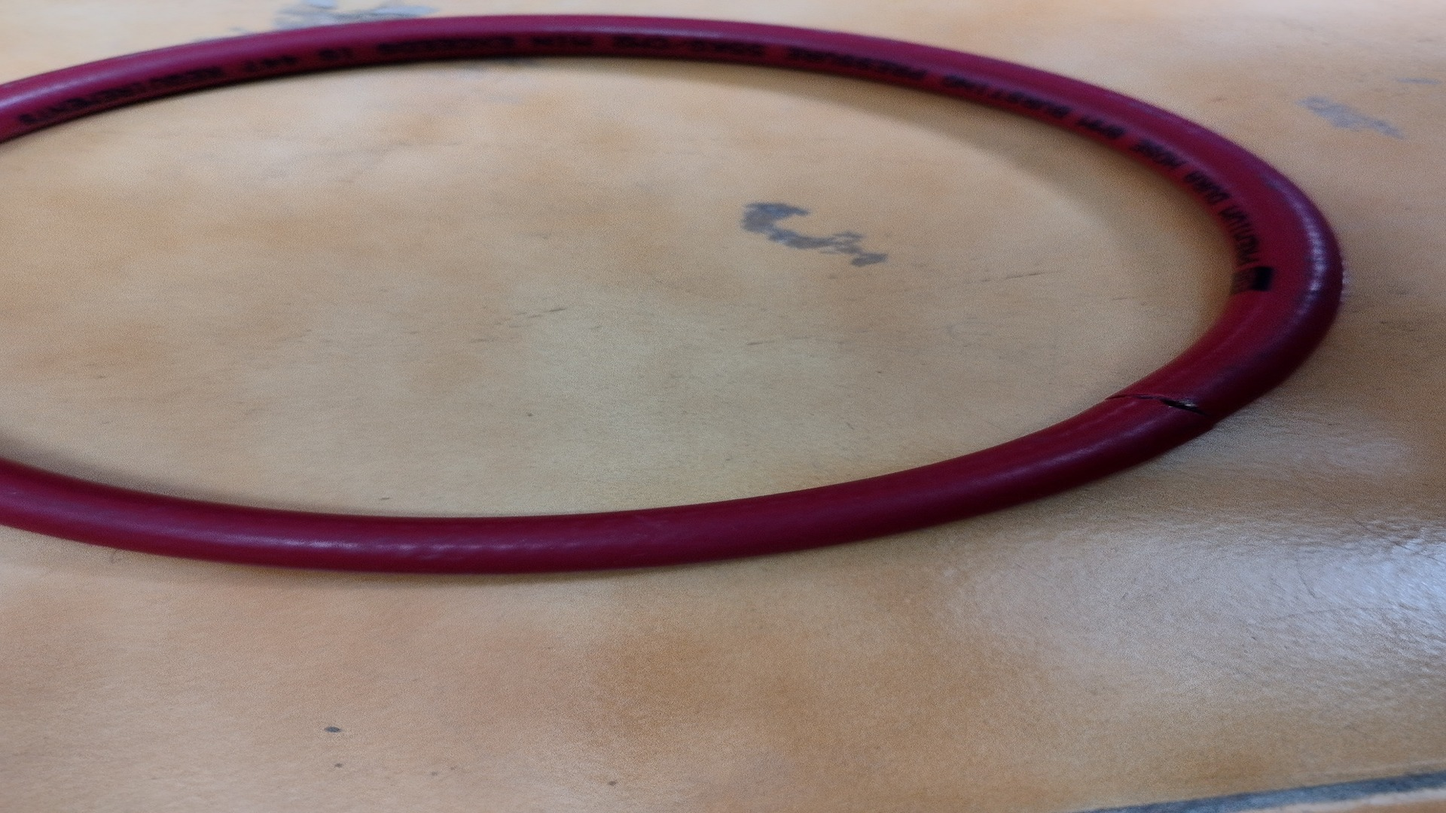Red ring: (5, 14, 1343, 575)
